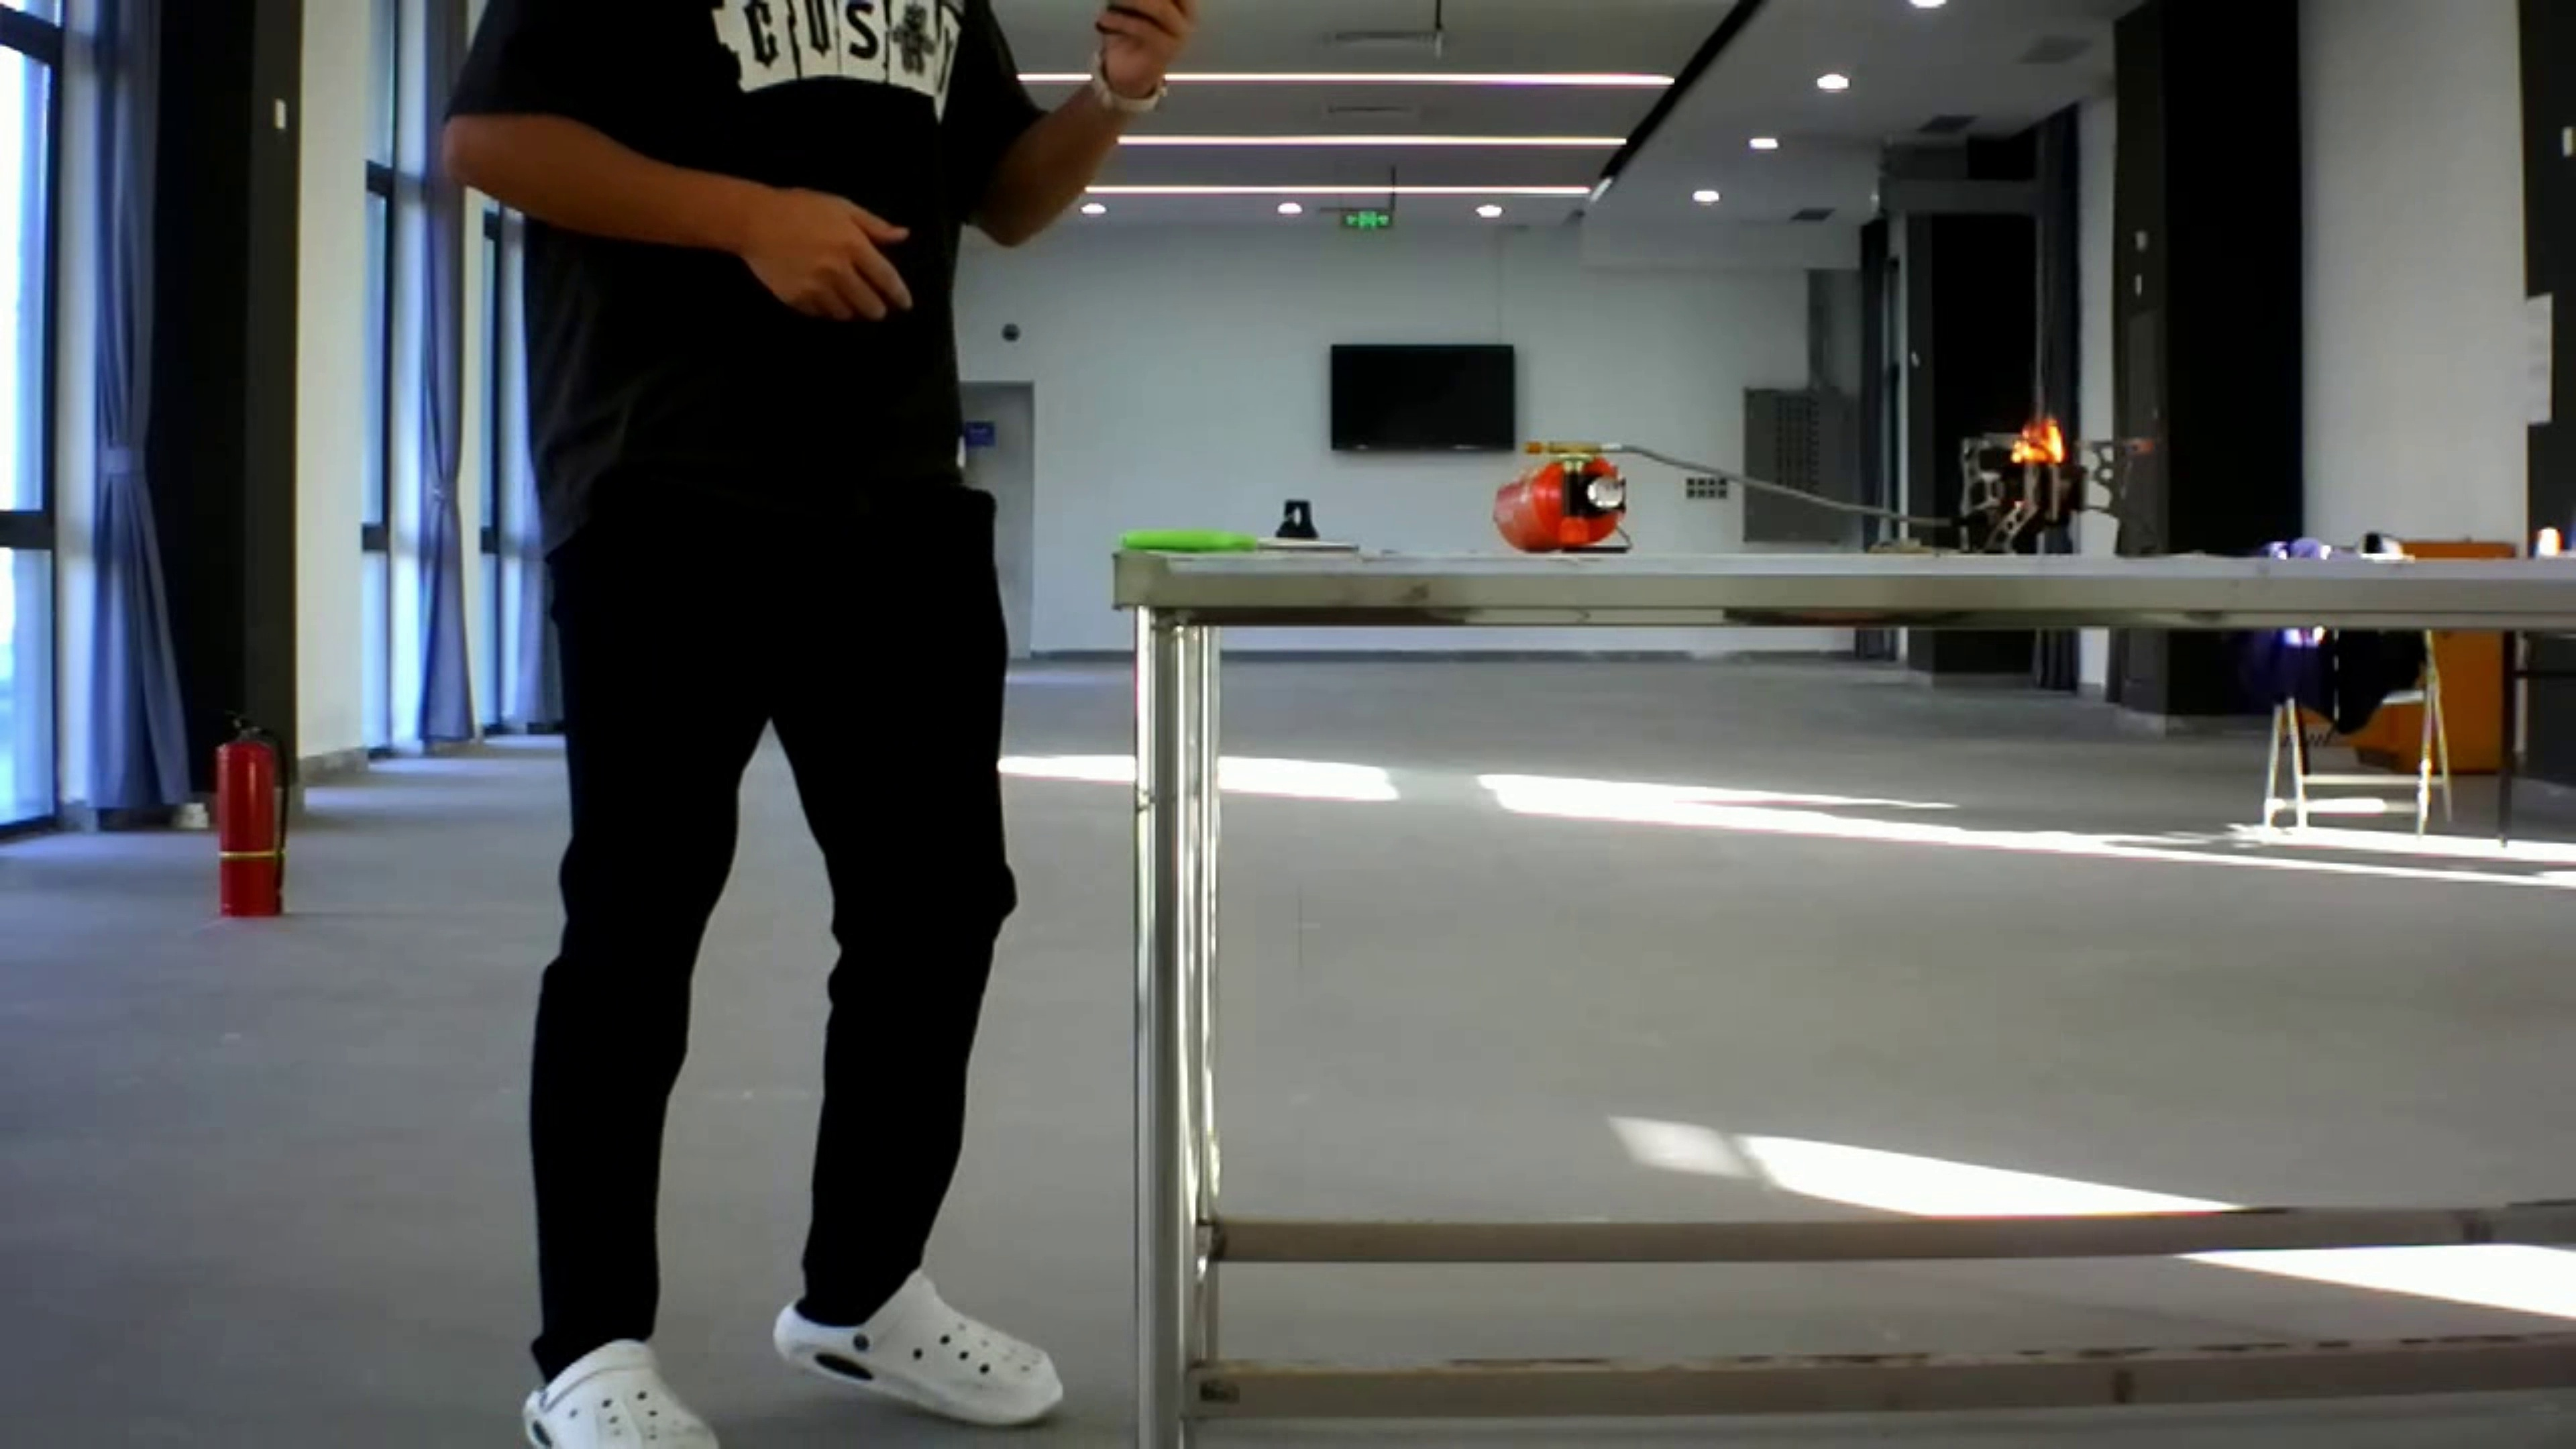Fire: (1990, 396, 2079, 479)
